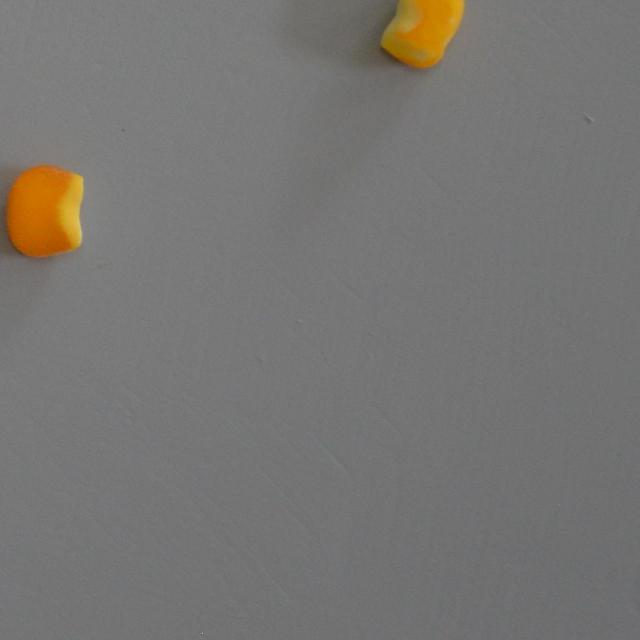no_canjicado: (6, 165, 84, 258), (377, 0, 466, 70)
